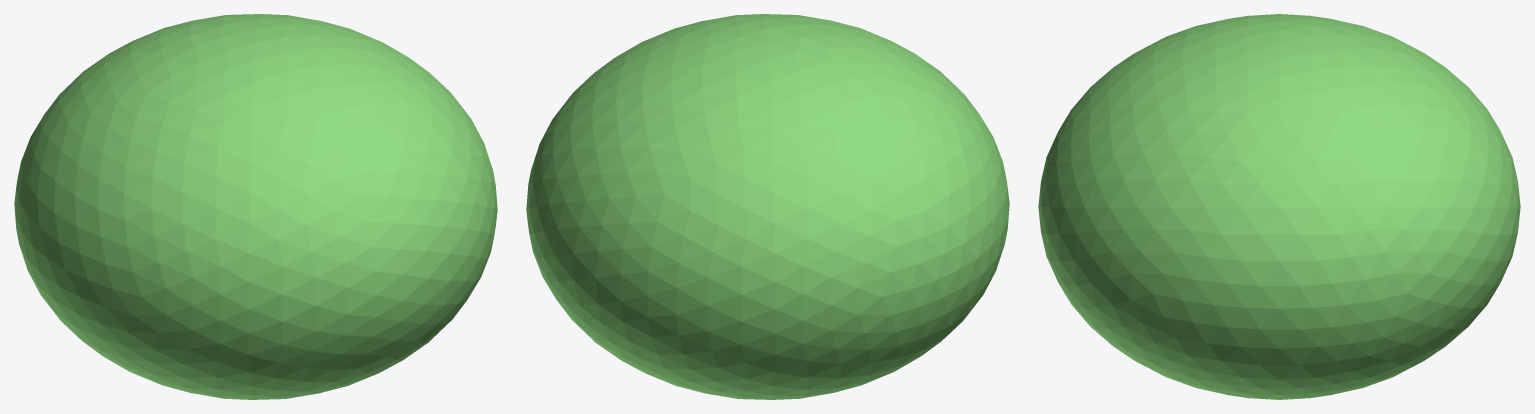
The model's file is green-lettuce.glb.
3 views of the same model, side by side, from view 1: azimuth 30°, elevation 25°; view 2: azimuth 150°, elevation 25°; view 3: azimuth 270°, elevation 25° (orthographic).
Visible parts, largest first — view 1: lettuce_leaves; view 2: lettuce_leaves; view 3: lettuce_leaves.
Boxes of the visible parts, x1,y1,x2,y2 form: lettuce_leaves: [14, 14, 497, 399]; lettuce_leaves: [526, 14, 1009, 399]; lettuce_leaves: [1038, 14, 1520, 399].
Bounding box in the file's own units: 0.136 × 0.102 × 0.136.
